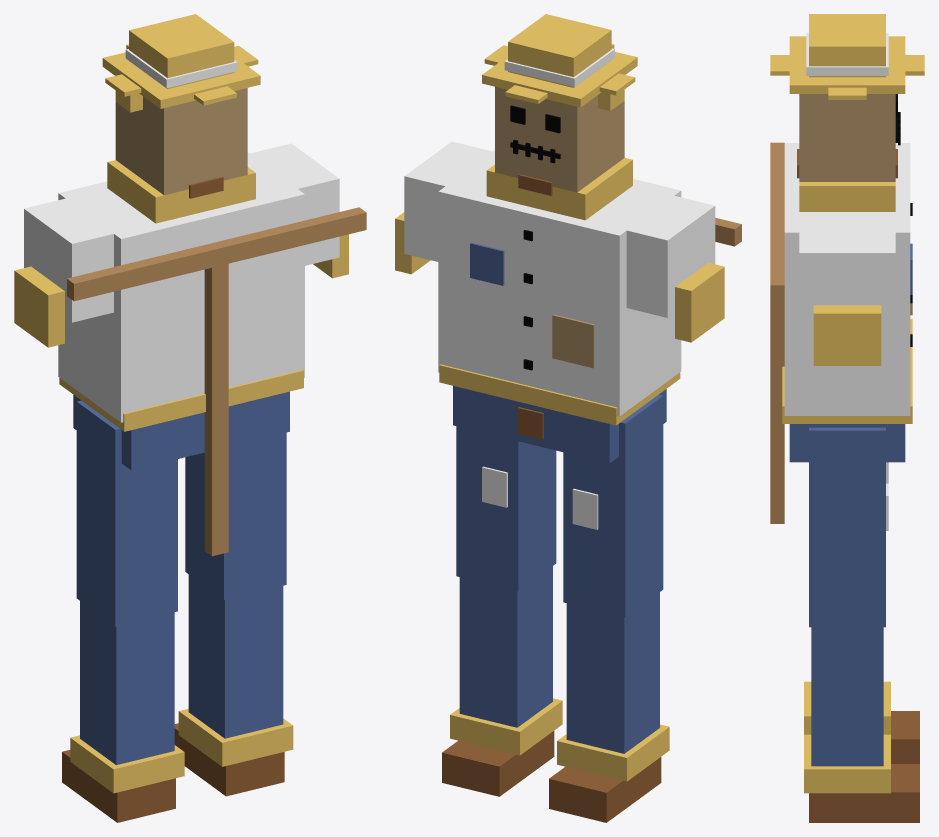
Rendered from SCARECROW.gltf.
3 renders of one model, left to right at view 1: azimuth 30°, elevation 25°; view 2: azimuth 150°, elevation 25°; view 3: azimuth 270°, elevation 25°, orthographic.
Parts seen in each view (by area): view 1: SCARECROW; view 2: SCARECROW; view 3: SCARECROW.
Part boxes in pixels (bbox=[...]): SCARECROW: bbox=[14, 14, 366, 822]; SCARECROW: bbox=[395, 14, 741, 822]; SCARECROW: bbox=[770, 14, 924, 822].
Bounding box in the file's own units: 0.72 × 1.72 × 0.32.
